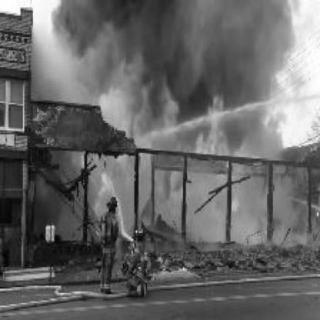Fire: (68, 48, 292, 246)
